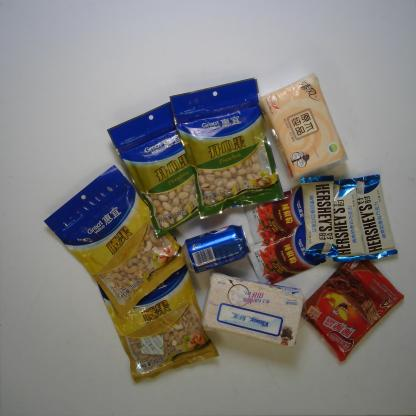Chocolate: (348, 173, 398, 260), (326, 176, 368, 262), (299, 173, 337, 260)
Dessert: (298, 252, 404, 363)
Dried Fruit: (42, 161, 192, 318), (106, 94, 224, 240), (168, 75, 286, 219), (93, 252, 220, 384)
Drink: (182, 223, 252, 274)
Seasoner: (247, 221, 336, 289), (242, 184, 323, 245)
Tissue: (256, 71, 349, 179), (201, 270, 305, 348)
